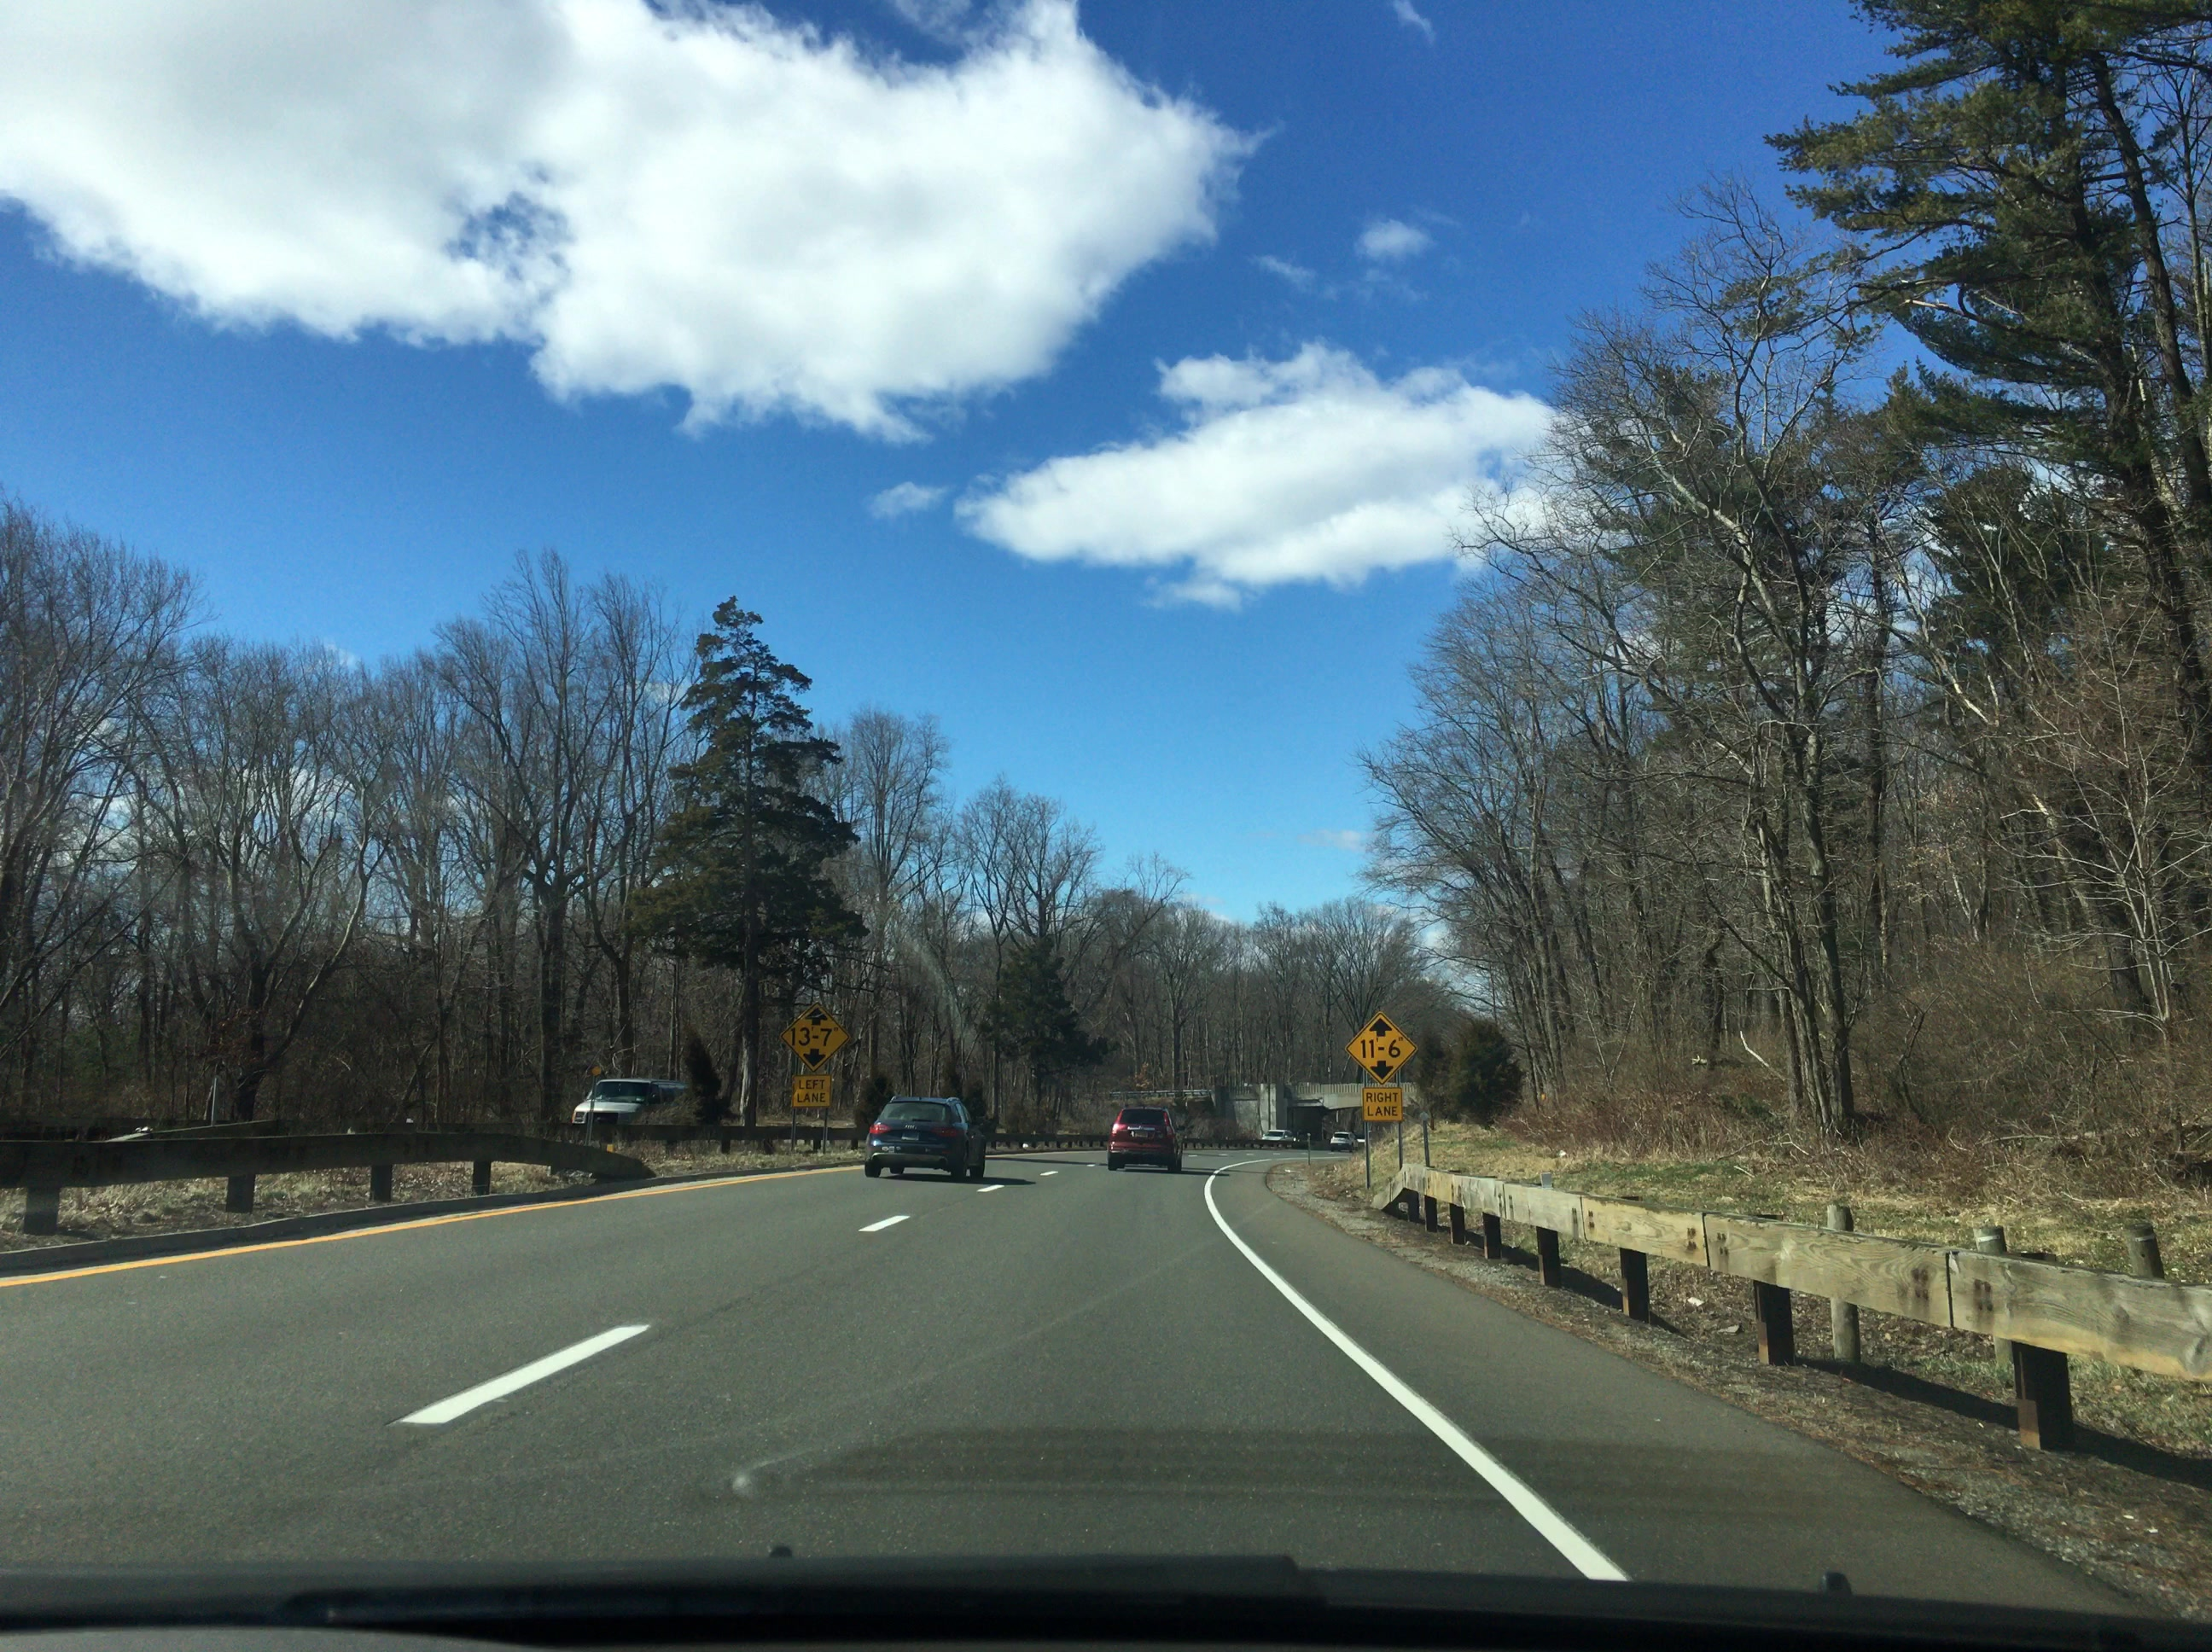low-clearance-sign: (1345, 1012, 1419, 1086), (779, 1001, 852, 1074)
